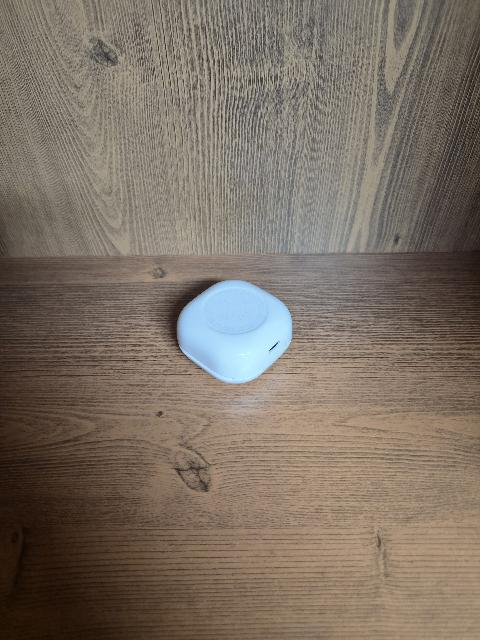earphone_case: (176, 280, 293, 384)
